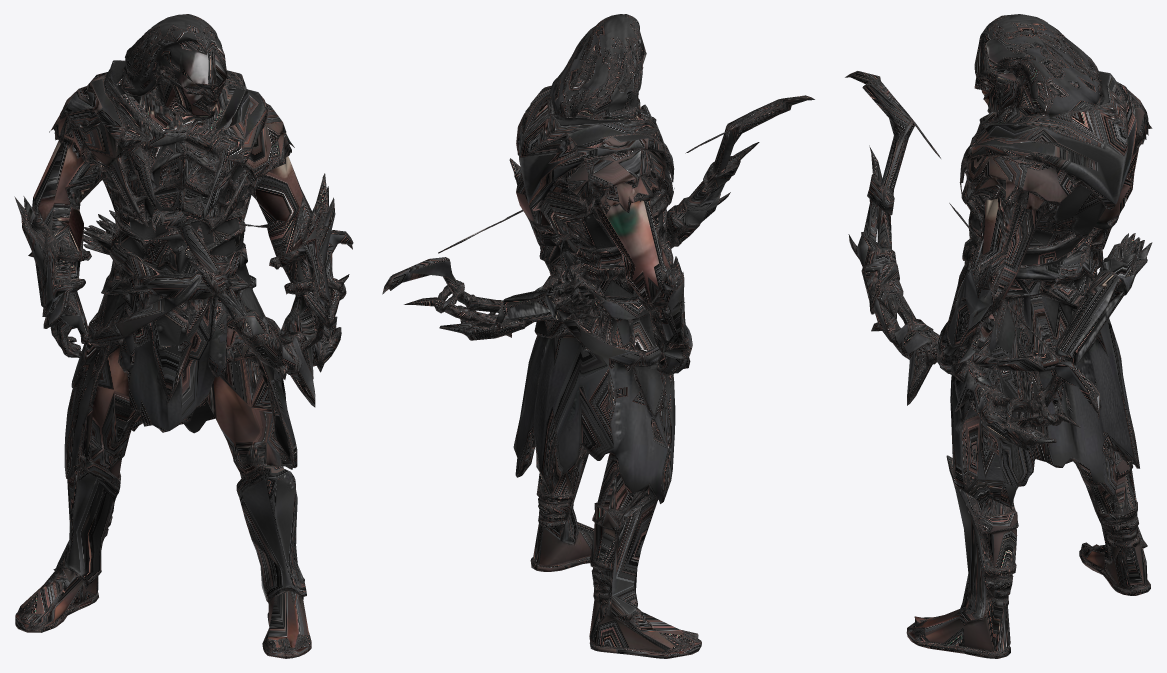
Rendered from hill-giant-archer.glb.
3 renders of one model, left to right at view 1: azimuth 30°, elevation 25°; view 2: azimuth 150°, elevation 25°; view 3: azimuth 270°, elevation 25°, orthographic. The views are drawn at different scales.
Size of the model in its own units: 1.15 by 2 by 0.9399.
1 material, 1 textured.
